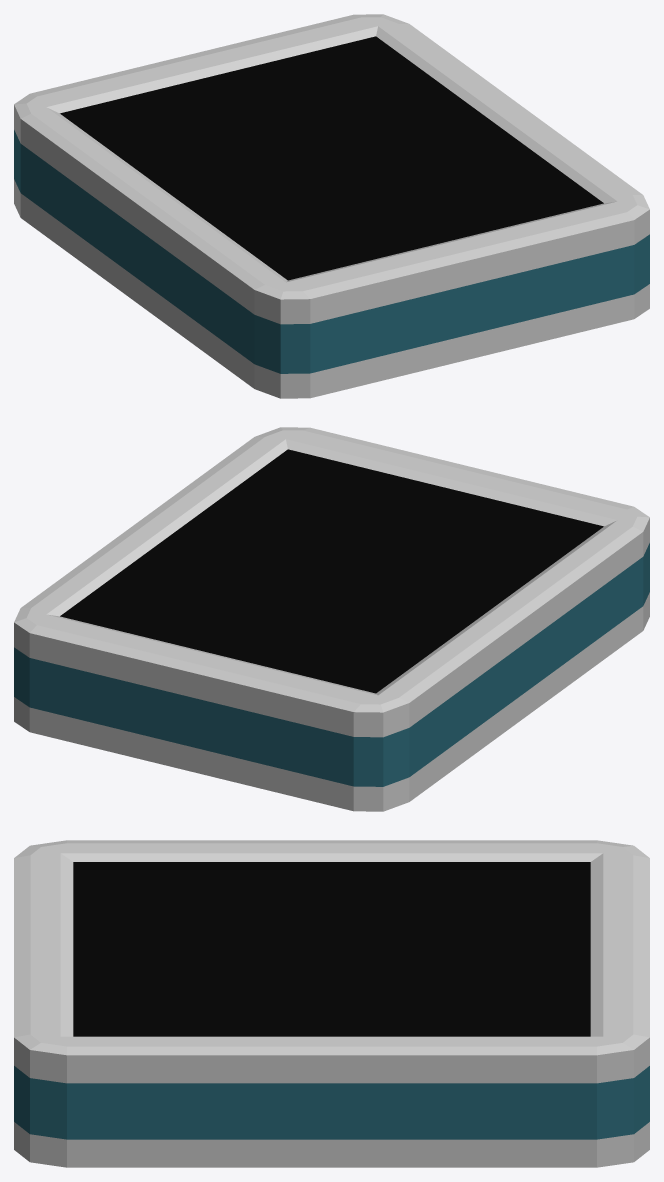
The model's file is TactileScreen.fbx.
3 views of the same model, one above another, from view 1: azimuth 30°, elevation 25°; view 2: azimuth 150°, elevation 25°; view 3: azimuth 270°, elevation 25° (orthographic). The views are drawn at different scales.
Visible parts, largest first — view 1: Screen, Screen.001; view 2: Screen, Screen.001; view 3: Screen, Screen.001.
Boxes of the visible parts, x1=… form: Screen: x1=14, y1=14, x2=649, y2=398; Screen.001: x1=60, y1=36, x2=603, y2=280; Screen: x1=14, y1=427, x2=649, y2=811; Screen.001: x1=60, y1=449, x2=603, y2=693; Screen: x1=14, y1=840, x2=649, y2=1167; Screen.001: x1=73, y1=862, x2=590, y2=1036.
Size of the model in its own units: 50 by 12.5 by 62.5.
